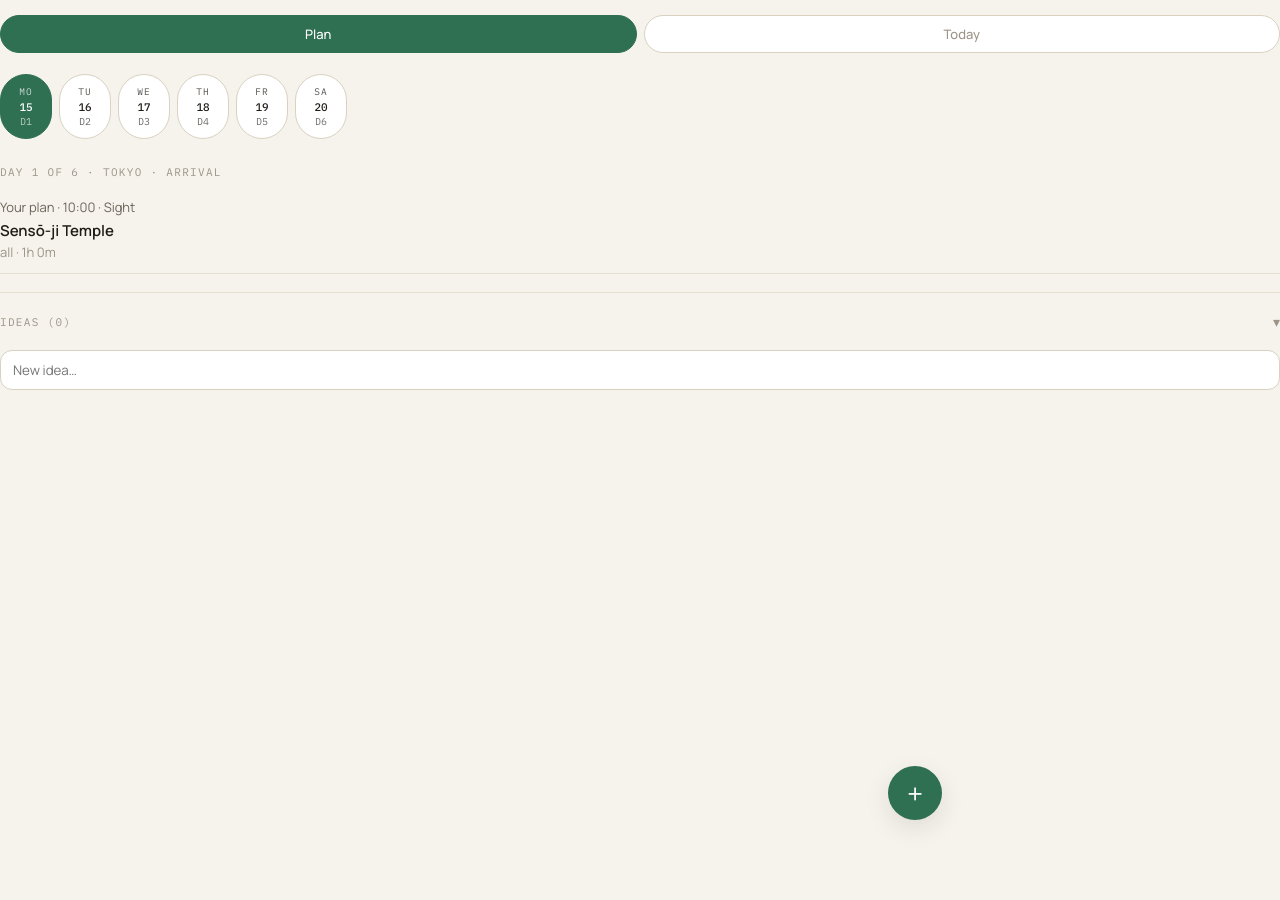
Test case: ItineraryTab — View Details › Edit from the View transitions to StopForm prefilled with the same stop
Click the button with aria-label "Open Sensō-ji Temple": x=31, y=207 [0,186,1279,274]
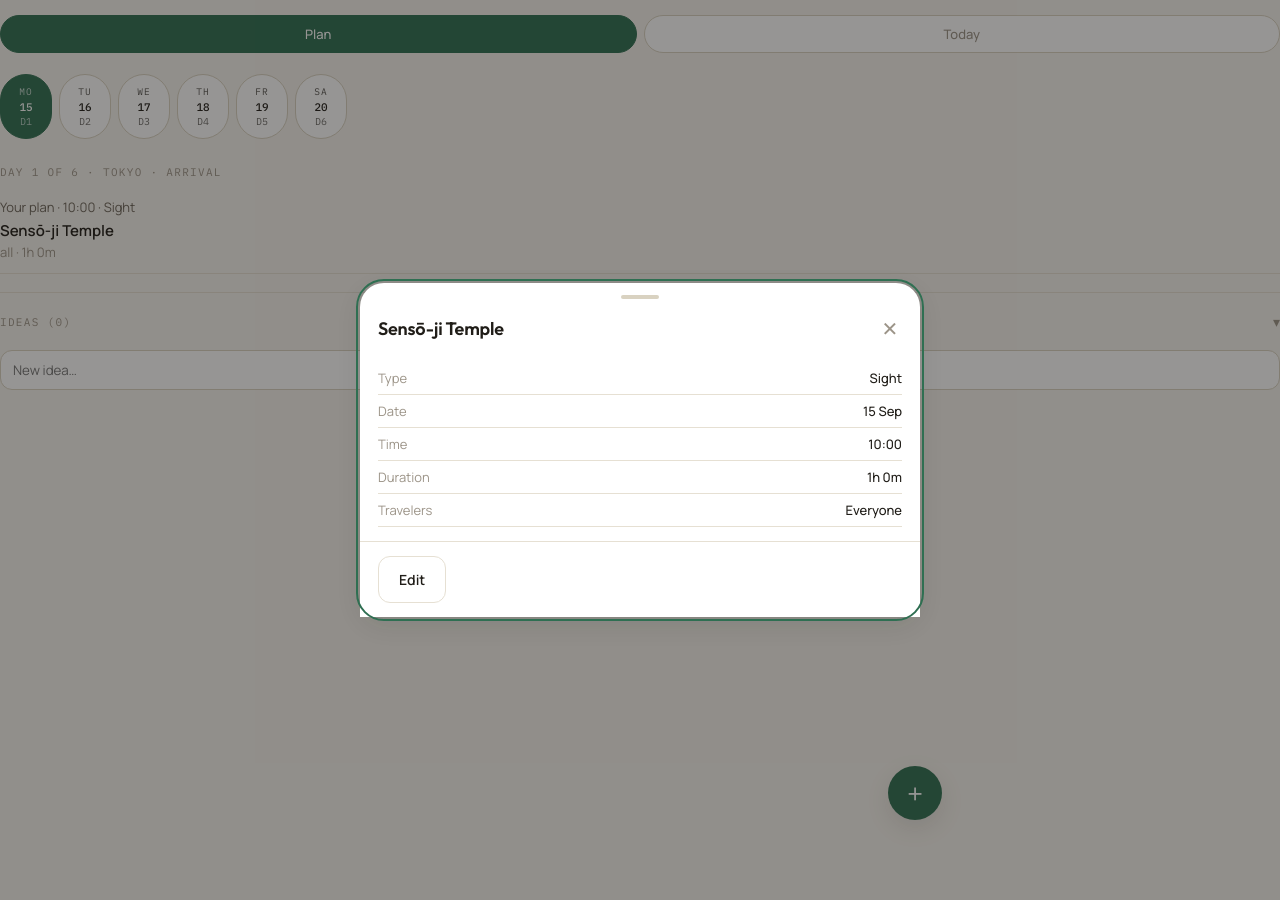
Click the button "Edit": x=412, y=580 [378,556,446,603]
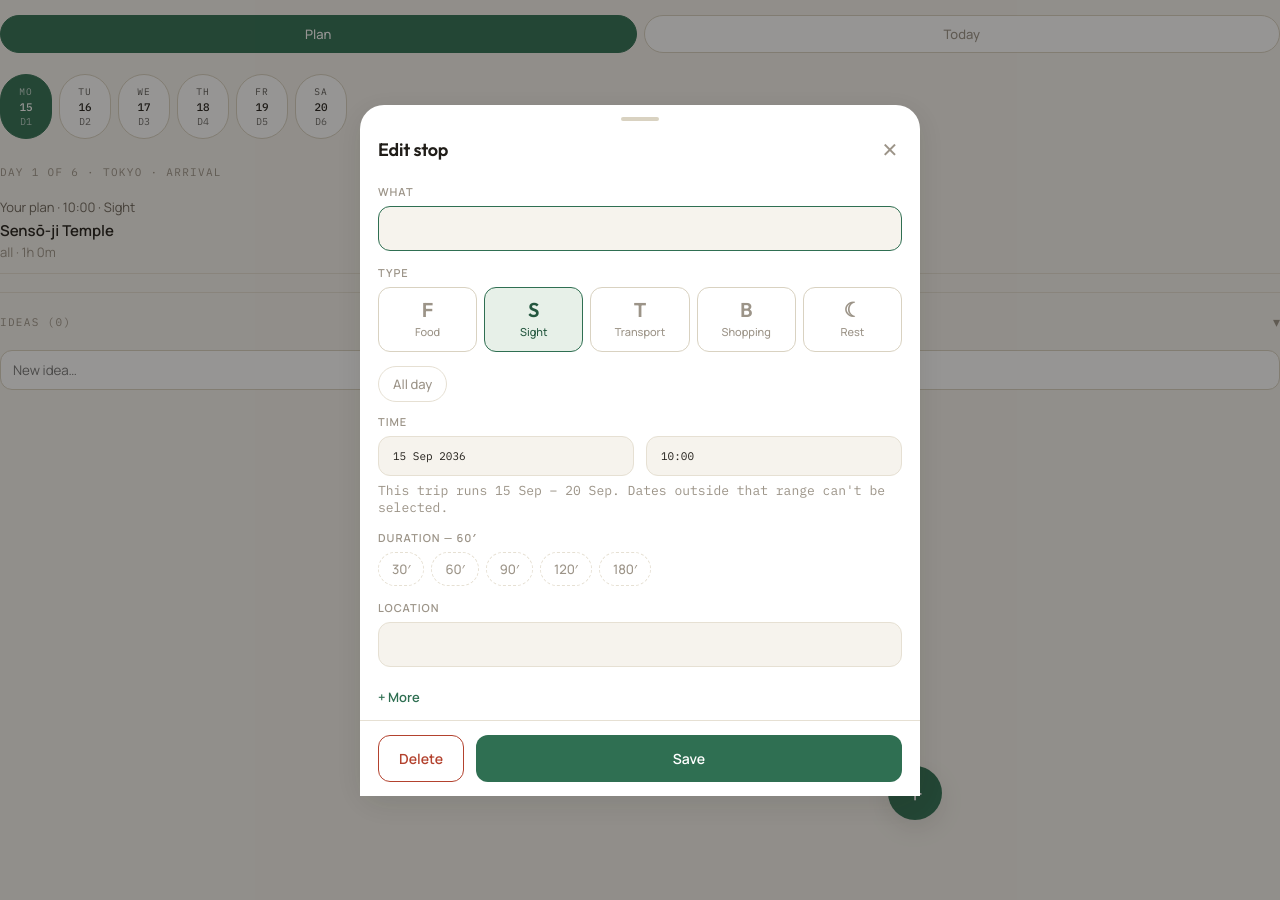
Expected: the text "Edit stop" is shown, [378,138,448,161]
Expected: the field showing "Sensō-ji Temple" is shown, [378,206,902,250]
